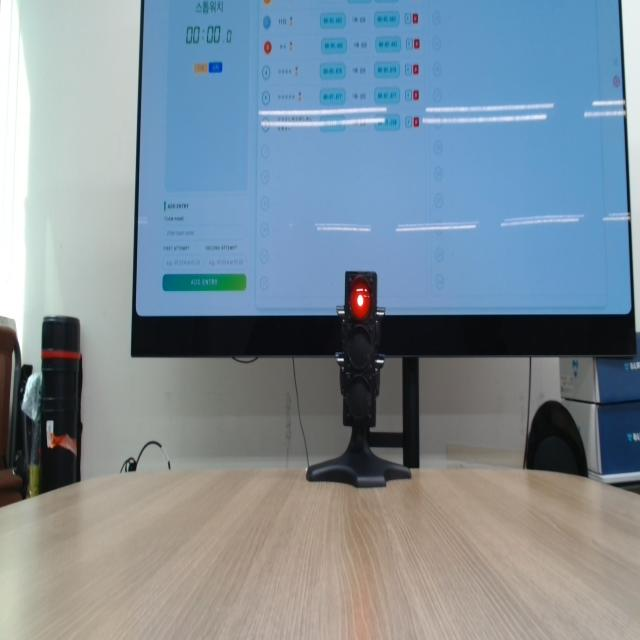red_light: (350, 278, 370, 321)
